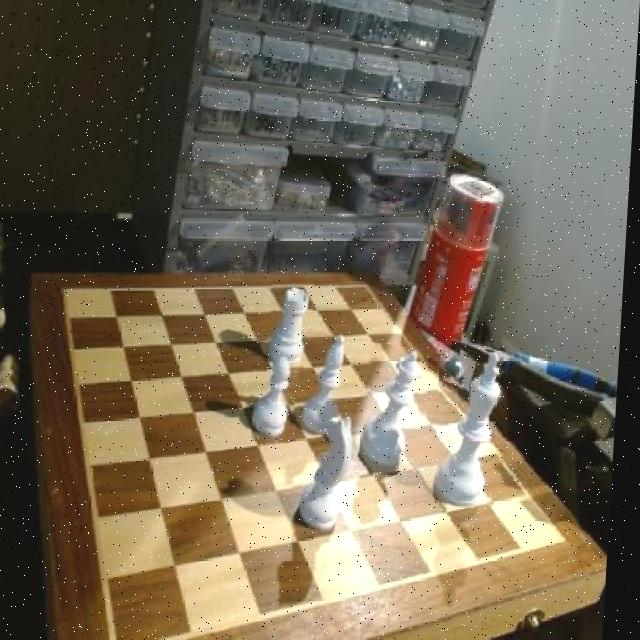black-rook: (304, 332, 359, 440)
white-bishop: (438, 352, 514, 510)
white-king: (296, 416, 363, 538)
white-knight: (253, 355, 302, 443)
white-pawn: (366, 344, 435, 472)
white-queen: (272, 286, 318, 372)
